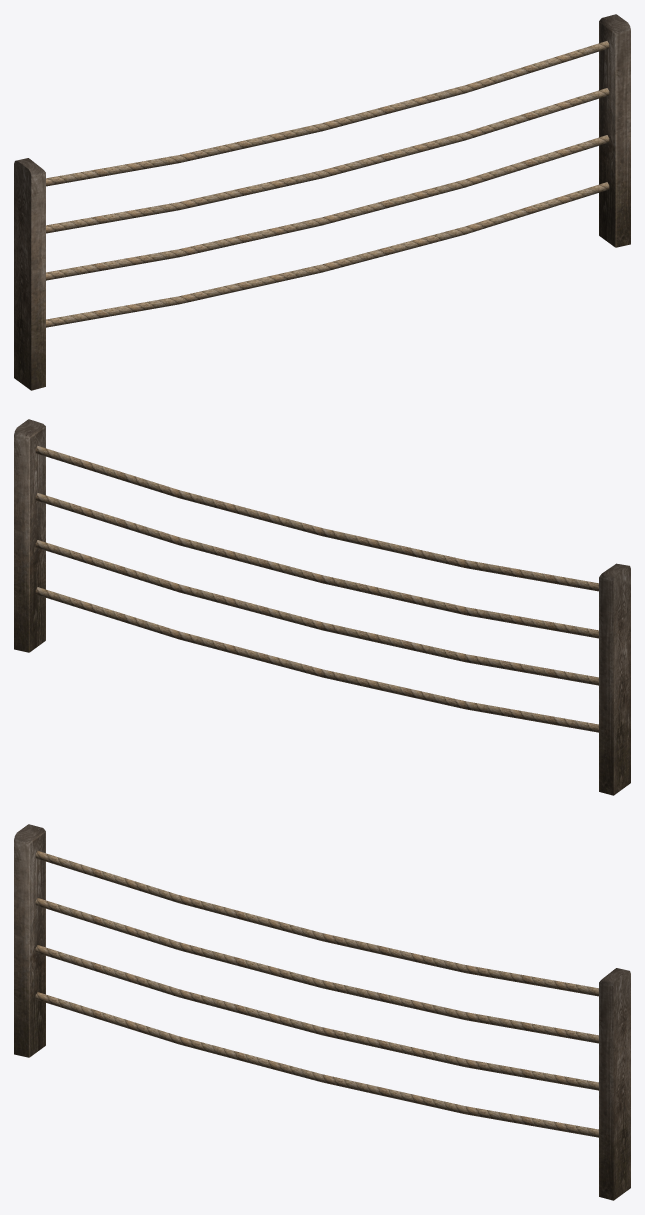
The model's file is HighRopeFence.dae.
The picture shows the model from 3 angles, top to bottom: view 1: azimuth 30°, elevation 25°; view 2: azimuth 150°, elevation 25°; view 3: azimuth 330°, elevation 25°; orthographic projection.
Visible parts, largest first — view 1: HighRopeFence; view 2: HighRopeFence; view 3: HighRopeFence.
Part boxes in pixels (box(x1,y1,x2,y2)): HighRopeFence: box(14, 14, 630, 390); HighRopeFence: box(14, 419, 630, 795); HighRopeFence: box(14, 824, 630, 1200).
Size of the model in its own units: 4 by 1.4 by 0.2.
1 material, 1 textured.
